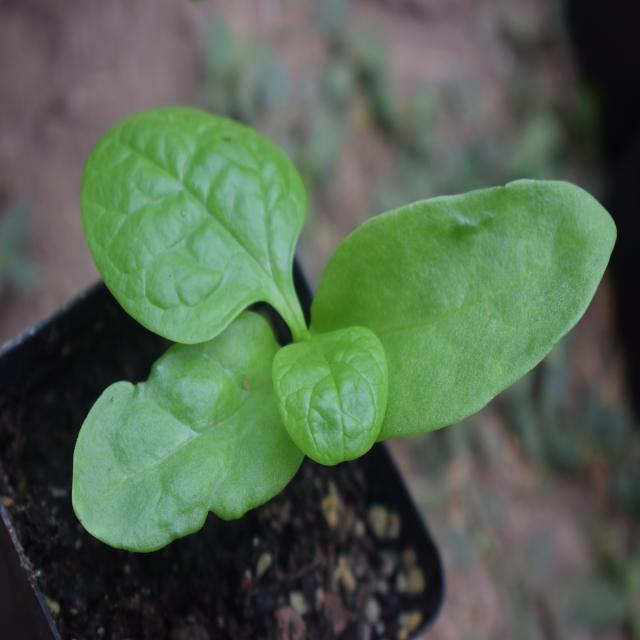Ceylon spinach: (70, 100, 594, 516)
